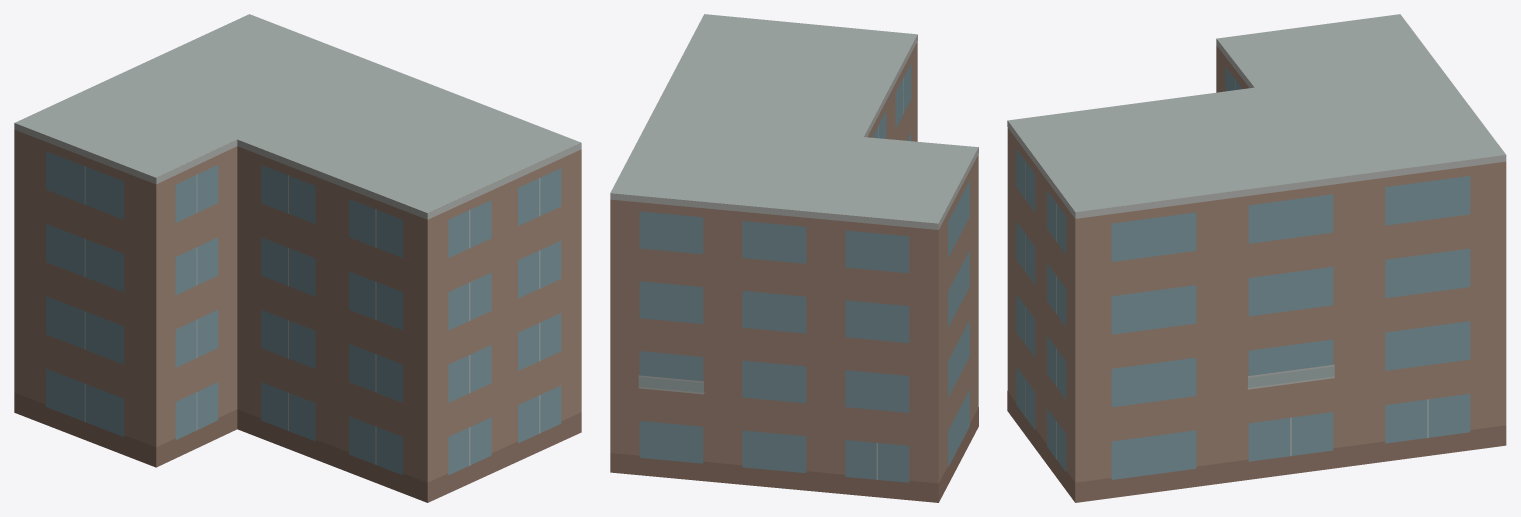
Rendered from survey-upis-32935306.glb.
3 views of the same model, side by side, from view 1: azimuth 30°, elevation 25°; view 2: azimuth 150°, elevation 25°; view 3: azimuth 270°, elevation 25° (orthographic). The views are drawn at different scales.
Parts seen in each view (by area): view 1: survey-upis-32935306.tmp; view 2: survey-upis-32935306.tmp; view 3: survey-upis-32935306.tmp.
Part boxes in pixels (x1,y1,x2,y2): survey-upis-32935306.tmp: (14, 14, 581, 502); survey-upis-32935306.tmp: (610, 14, 978, 502); survey-upis-32935306.tmp: (1007, 14, 1506, 502).
Size of the model in its own units: 15.67 by 10.7 by 16.66.
